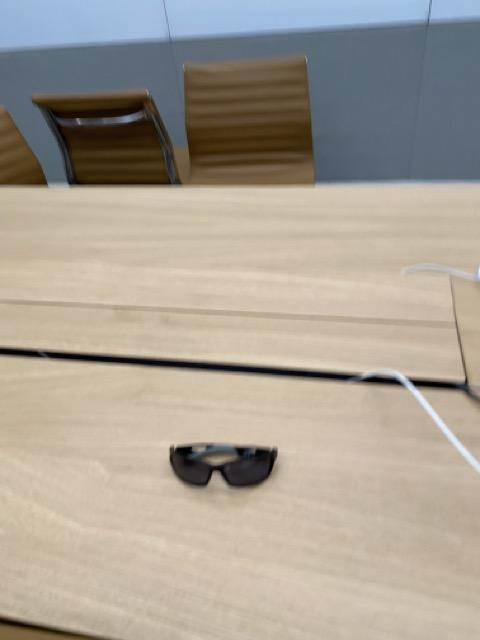Sunglasses: (169, 441, 277, 490)
